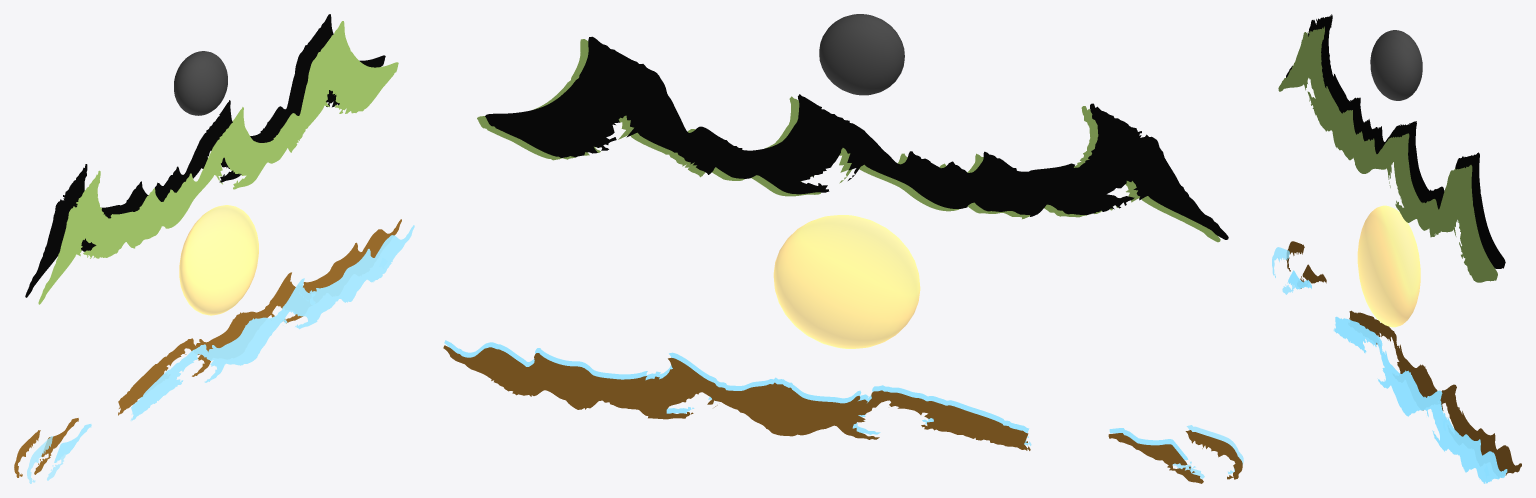
3 views of the same model, side by side, from view 1: azimuth 30°, elevation 25°; view 2: azimuth 150°, elevation 25°; view 3: azimuth 270°, elevation 25° (orthographic). The views are drawn at different scales.
Parts seen in each view (by area): view 1: 球體; view 2: 球體; view 3: 球體.
Boxes of the visible parts, x1,y1,x2,y2 form: 球體: [14, 14, 414, 483]; 球體: [443, 14, 1243, 483]; 球體: [1272, 14, 1521, 483].
Size of the model in its own units: 0.00168 by 0.00108 by 0.000666.
